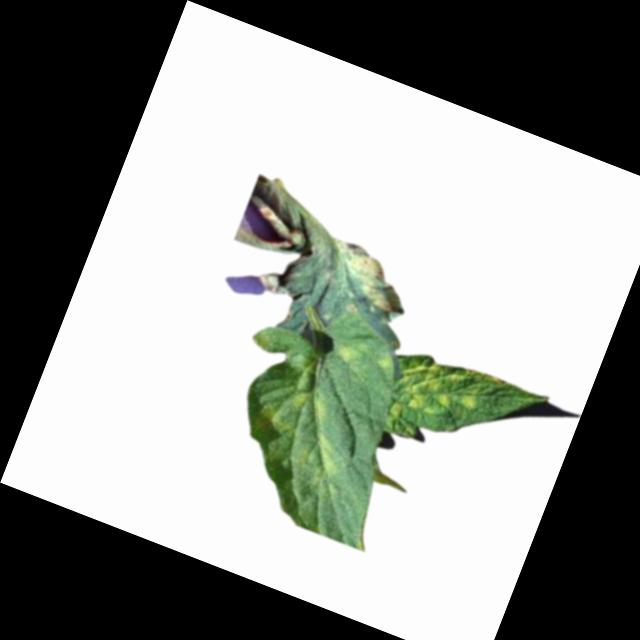Leaf_Mold: (250, 378, 361, 489), (385, 345, 488, 444), (315, 236, 416, 322), (327, 337, 366, 373)
